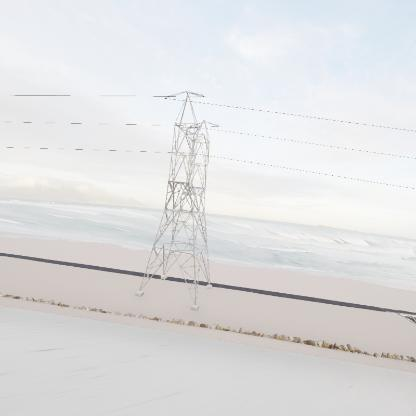tower: (129, 87, 221, 314)
